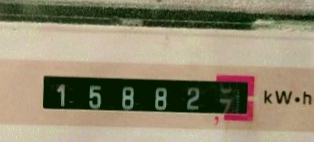1: (52, 78, 67, 107)
2: (183, 83, 200, 111)
5: (84, 81, 103, 108)
7: (215, 94, 231, 112)
8: (117, 82, 134, 111), (151, 82, 167, 111)
screen: (26, 57, 264, 129)
